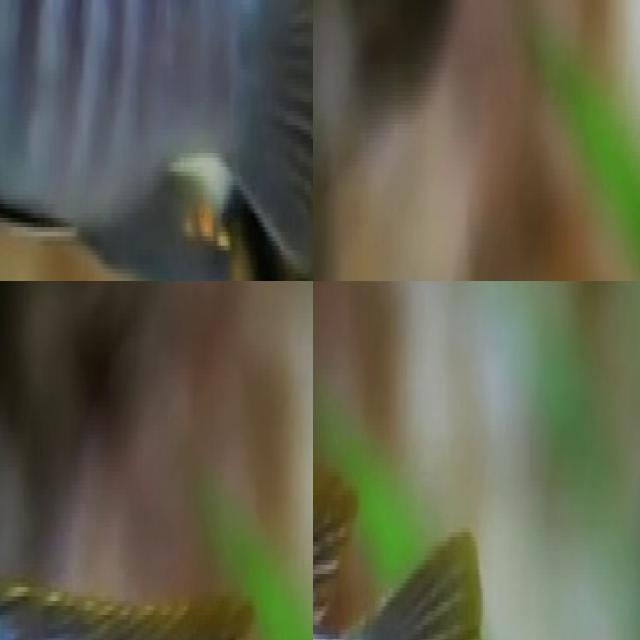fish: (0, 0, 313, 281), (0, 541, 313, 640)
